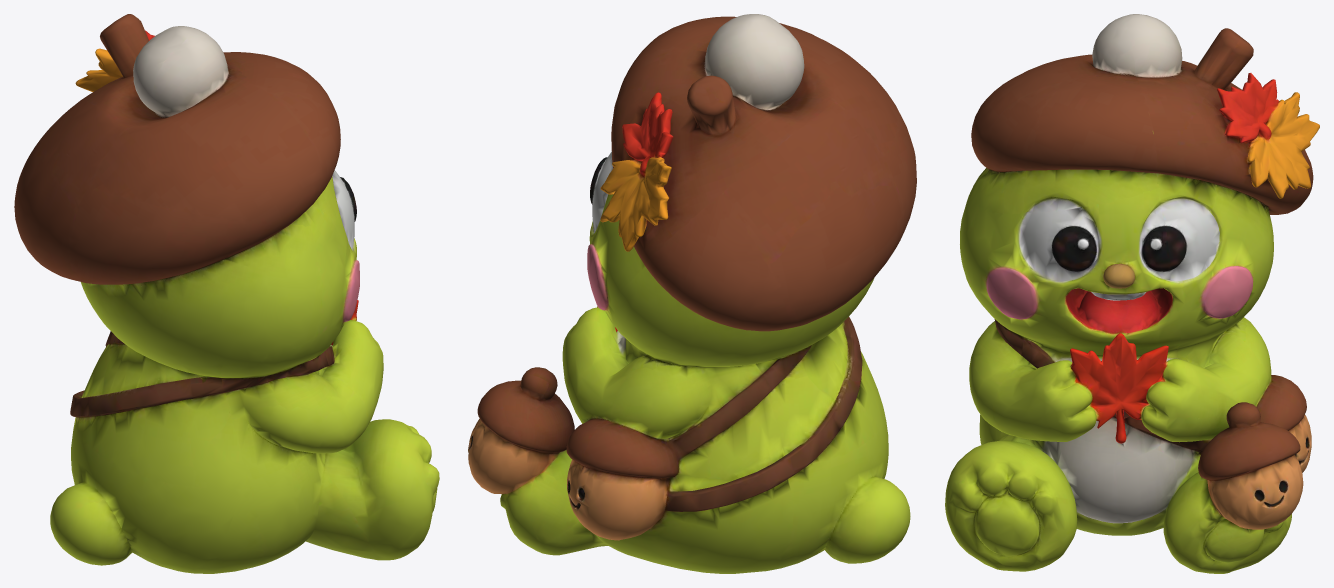
File: acorn-plush.glb
3 renders of one model, left to right at view 1: azimuth 30°, elevation 25°; view 2: azimuth 150°, elevation 25°; view 3: azimuth 270°, elevation 25°, orthographic. The views are drawn at different scales.
Parts seen in each view (by area): view 1: tripo_node_a5510f58-59e1-492f-ab13-cd006647f656; view 2: tripo_node_a5510f58-59e1-492f-ab13-cd006647f656; view 3: tripo_node_a5510f58-59e1-492f-ab13-cd006647f656.
Boxes of the visible parts, <box> form: tripo_node_a5510f58-59e1-492f-ab13-cd006647f656: <box>14,14,439,573</box>; tripo_node_a5510f58-59e1-492f-ab13-cd006647f656: <box>468,14,916,573</box>; tripo_node_a5510f58-59e1-492f-ab13-cd006647f656: <box>945,14,1319,573</box>.
Bounding box in the file's own units: 0.6967 × 0.9996 × 0.6949.
1 material, 1 textured.
